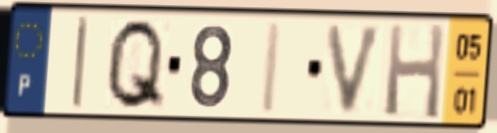8: (189, 22, 234, 110)
H: (381, 21, 447, 124)
I: (256, 18, 286, 117), (68, 12, 92, 113)
Q: (102, 15, 168, 113)
V: (323, 22, 388, 119)
